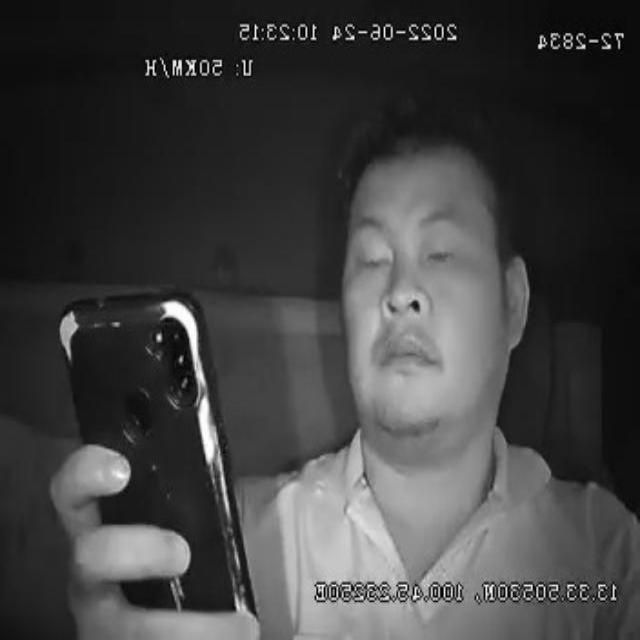phone: (58, 293, 256, 619)
